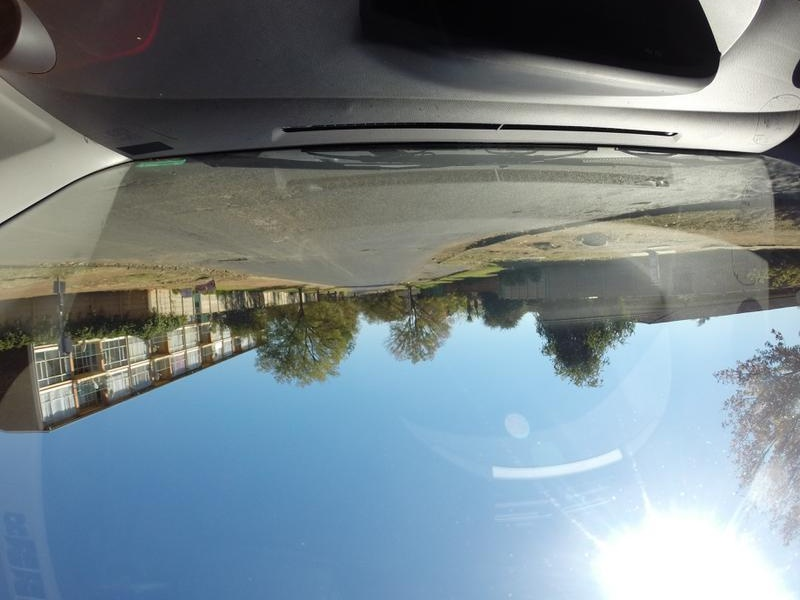pothole: (203, 248, 247, 268), (348, 242, 375, 258)
